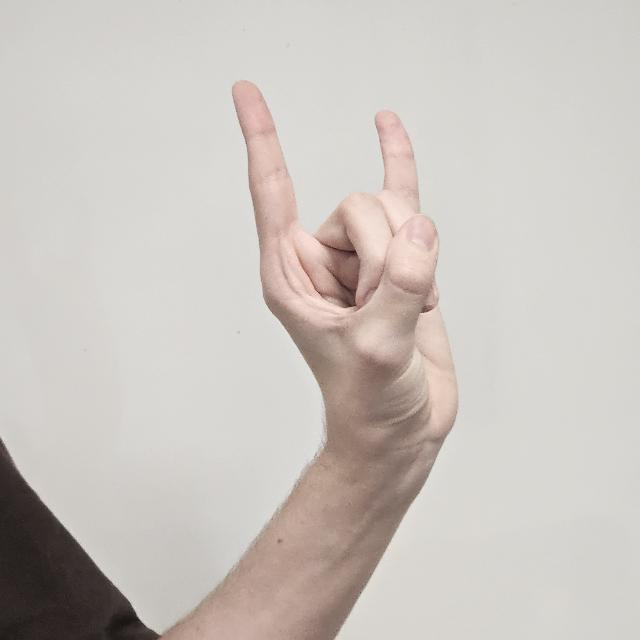L: (230, 80, 460, 482)
